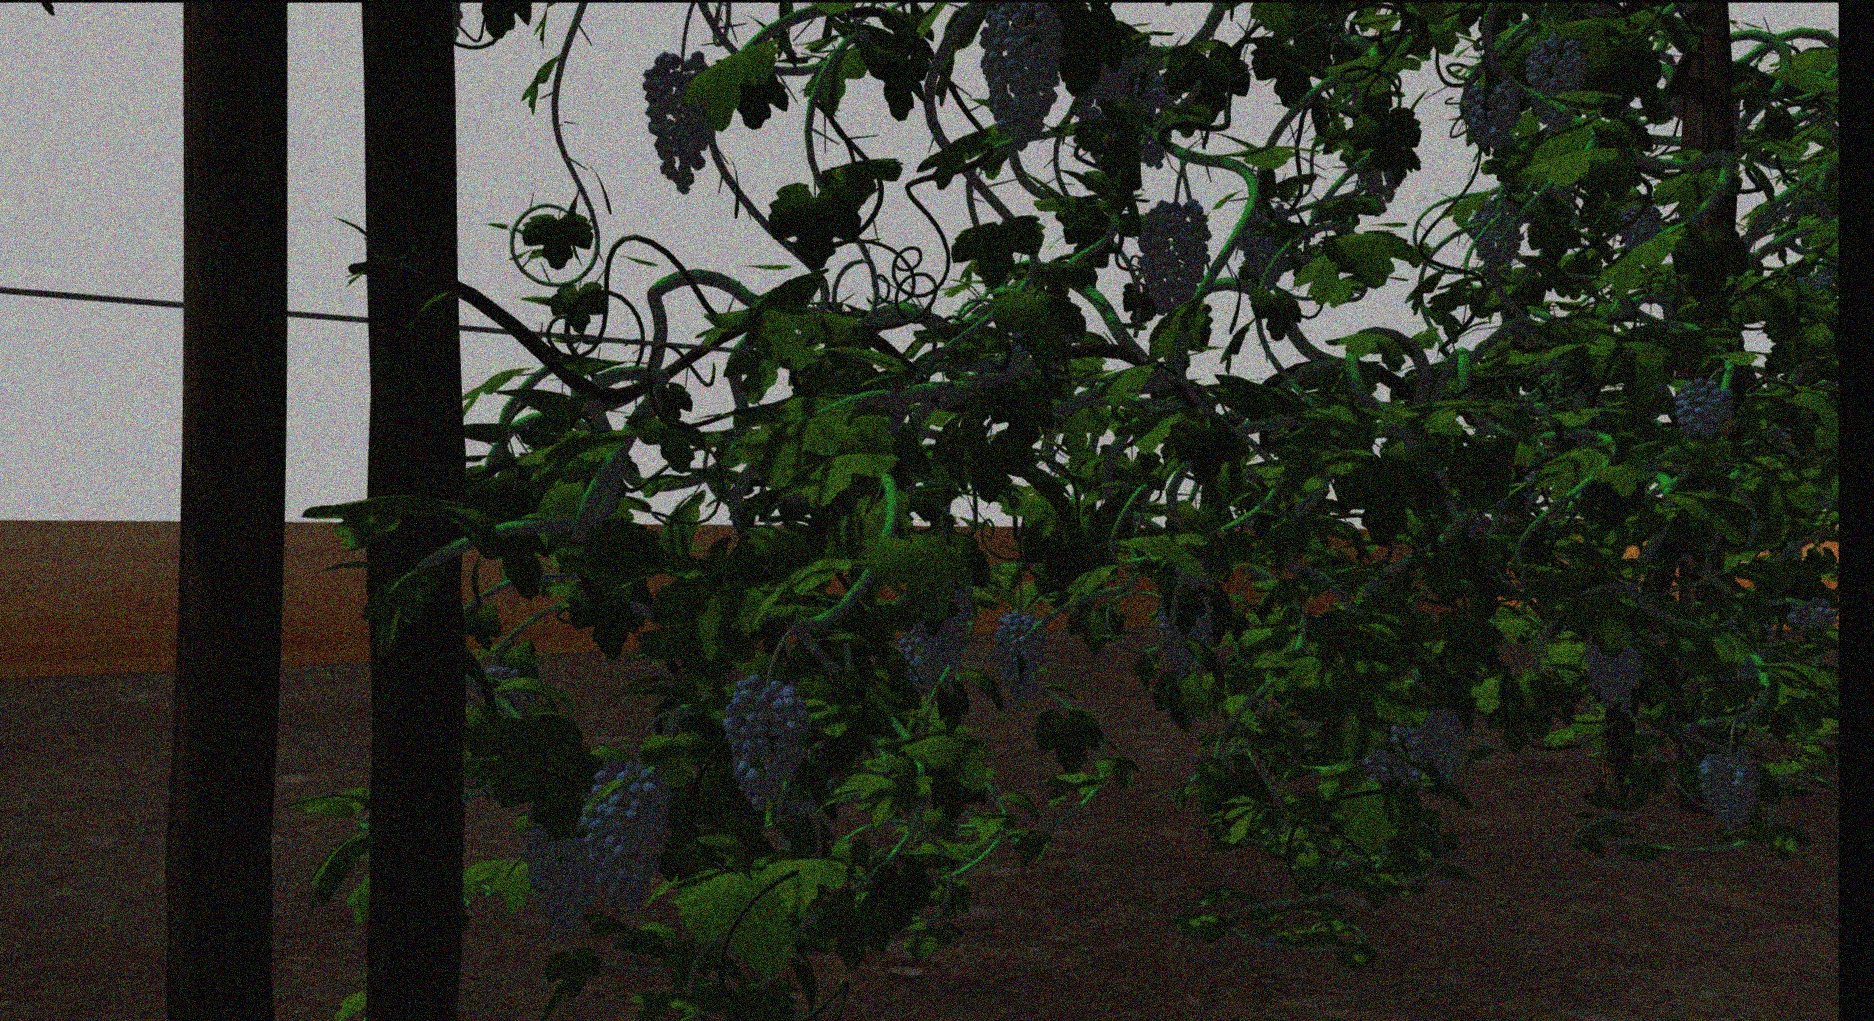grape: (721, 670, 814, 814), (582, 770, 672, 912), (642, 52, 726, 192), (982, 8, 1066, 147), (523, 820, 600, 941), (1137, 197, 1213, 319), (900, 582, 977, 693), (1158, 572, 1222, 680), (1525, 36, 1591, 128), (1698, 749, 1763, 839), (1586, 632, 1647, 719), (1236, 200, 1296, 284), (1460, 197, 1527, 270), (1457, 77, 1523, 148), (1418, 697, 1471, 780), (998, 614, 1047, 702), (1362, 722, 1425, 788), (1675, 373, 1733, 440), (1789, 599, 1836, 640)
